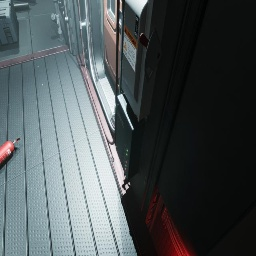FireExtinguisher ]: (0, 138, 20, 166)
SafetySwitchPanel ,: (122, 0, 168, 122)
